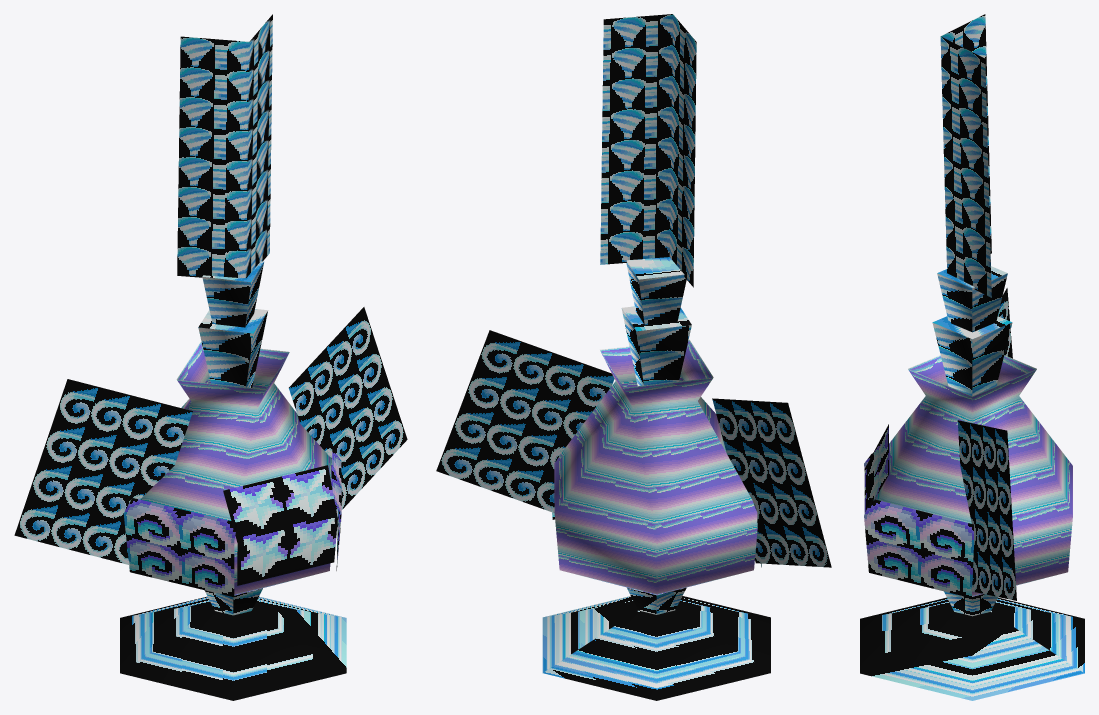
The model's file is 5647uc_m_kous1.gltf.
3 views of the same model, side by side, from view 1: azimuth 30°, elevation 25°; view 2: azimuth 150°, elevation 25°; view 3: azimuth 270°, elevation 25° (orthographic).
Parts seen in each view (by area): view 1: 5647uc_m_kous1; view 2: 5647uc_m_kous1; view 3: 5647uc_m_kous1.
Boxes of the visible parts, x1=… form: 5647uc_m_kous1: x1=14, y1=14, x2=407, y2=700; 5647uc_m_kous1: x1=436, y1=14, x2=831, y2=700; 5647uc_m_kous1: x1=860, y1=14, x2=1084, y2=700.
Bounding box in the file's own units: 0.5947 × 0.8914 × 0.2974.
Materials: 5 (5 with a texture image).
